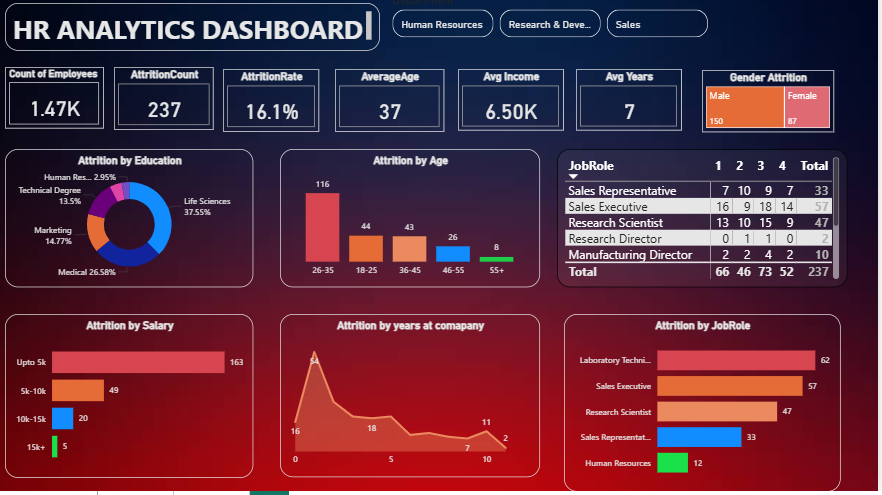

What the dashboard file says about the page in this screenshot:
{"tool":"powerbi","page":{"name":"Page 1","canvas":[1280,720],"ordinal":0},"visuals":[{"type":"cardVisual","title":"Count of Employees","fields":{"Data":["CountNonNull(HR_Analytics.EmpID)"]},"box":[18.5,107.5,142.8,89],"z":0},{"type":"cardVisual","title":"AttritionCount","fields":{"Data":["Sum(HR_Analytics.AttritionCount)"]},"box":[176.4,107.5,144.5,90.7],"z":1000},{"type":"cardVisual","title":"AttritionRate","fields":{"Data":["HR_Analytics.AttritionRate"]},"box":[334.3,109.2,139.4,90.7],"z":2000},{"type":"cardVisual","title":"AverageAge","fields":{"Data":["Avg(HR_Analytics.Age)"]},"box":[495.5,109.2,157.9,90.7],"z":3000},{"type":"cardVisual","title":"Avg Years","fields":{"Data":["Avg(HR_Analytics.YearsAtCompany)"]},"box":[844.9,109.2,152.9,89],"z":4000},{"type":"cardVisual","title":"Avg Income","fields":{"Data":["Avg(HR_Analytics.MonthlyIncome)"]},"box":[673.6,109.2,152.9,89],"z":5000},{"type":"donutChart","title":"Attrition by Education","fields":{"Category":["HR_Analytics.EducationField"],"Y":["Sum(HR_Analytics.AttritionCount)"]},"box":[18.5,225.1,359.5,199.9],"z":6000},{"type":"columnChart","title":"Attrition by Age","fields":{"Category":["HR_Analytics.AgeGroup"],"Y":["Sum(HR_Analytics.AttritionCount)"]},"box":[416.6,225.1,376.3,199.9],"z":7000},{"type":"barChart","title":"Attrition by Salary","fields":{"Category":["HR_Analytics.SalarySlab"],"Y":["Sum(HR_Analytics.AttritionCount)"]},"box":[18.5,463.6,359.5,236.9],"z":8000},{"type":"pivotTable","fields":{"Rows":["HR_Analytics.JobRole"],"Columns":["HR_Analytics.JobSatisfaction"],"Values":["Sum(HR_Analytics.AttritionCount)"]},"box":[816.4,225.1,419.9,199.9],"z":9000},{"type":"barChart","title":"Attrition by JobRole","fields":{"Category":["HR_Analytics.JobRole"],"Y":["Sum(HR_Analytics.AttritionCount)"]},"box":[826.5,463.6,399.8,257],"z":10000},{"type":"areaChart","title":"Attrition by years at comapany","fields":{"Category":["HR_Analytics.YearsAtCompany"],"Y":["Sum(HR_Analytics.AttritionCount)"]},"box":[416.4,464.1,375.9,235.7],"z":11000},{"type":"textbox","box":[18.8,14.5,542.2,69.4],"z":13000},{"type":"advancedSlicerVisual","fields":{"Values":["HR_Analytics.Department"]},"box":[574,0,468.4,69.4],"z":14000},{"type":"treemap","title":"Gender Attrition","fields":{"Group":["HR_Analytics.Gender"],"Values":["Sum(HR_Analytics.Attrition)"]},"box":[1026.5,111.3,190.8,89.6],"z":14001}]}

Visuals, with their boxes in screenshot pixels (x1, y1, x2, y2), scaled from the page's 1280x720 canvas onto the 882x495 screenshot:
"Count of Employees" cardVisual: 13 74 111 135
"AttritionCount" cardVisual: 122 74 221 136
"AttritionRate" cardVisual: 230 75 326 137
"AverageAge" cardVisual: 341 75 450 137
"Avg Years" cardVisual: 582 75 688 136
"Avg Income" cardVisual: 464 75 570 136
"Attrition by Education" donutChart: 13 155 260 292
"Attrition by Age" columnChart: 287 155 546 292
"Attrition by Salary" barChart: 13 319 260 482
pivotTable - HR_Analytics.JobRole x HR_Analytics.JobSatisfaction: 563 155 852 292
"Attrition by JobRole" barChart: 570 319 845 494
"Attrition by years at comapany" areaChart: 287 319 546 481
textbox: 13 10 387 58
advancedSlicerVisual - HR_Analytics.Department: 396 0 718 48
"Gender Attrition" treemap: 707 77 839 138
